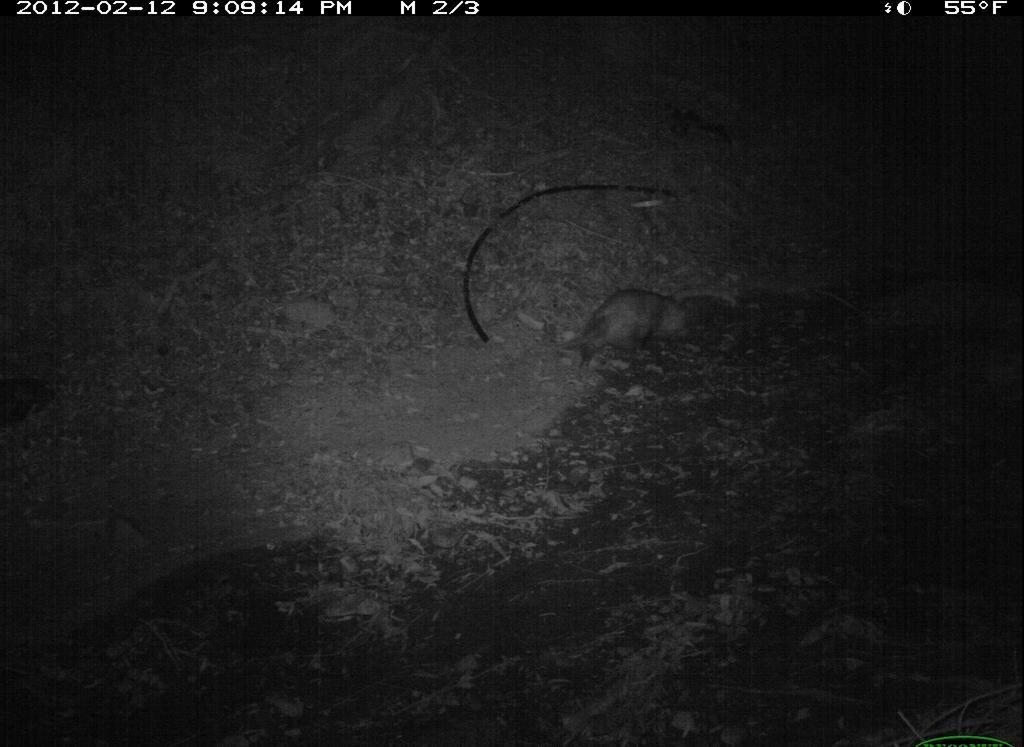opossum: (555, 285, 712, 370)
